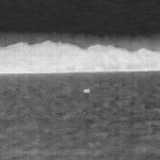Target: (82, 88, 91, 94)
